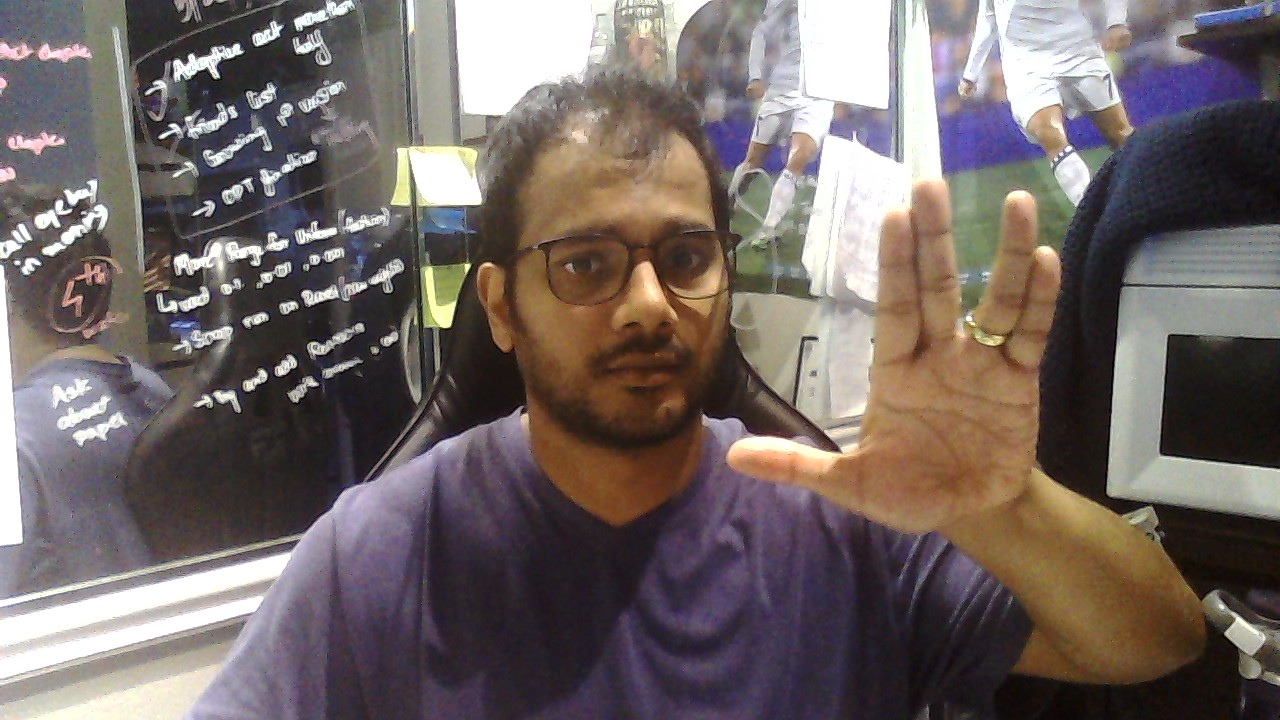LiveLong: (726, 175, 1062, 536)
